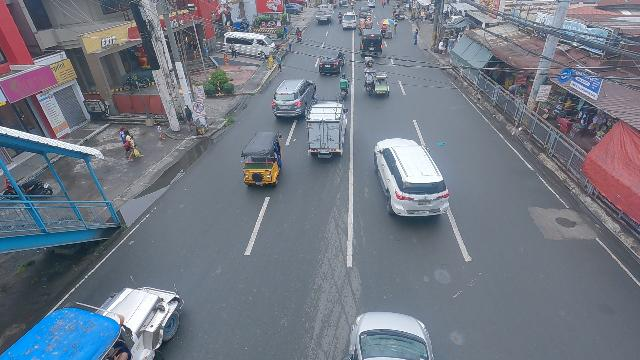car: (372, 138, 449, 222), (270, 78, 313, 118), (317, 50, 343, 76), (285, 2, 304, 14), (358, 7, 372, 19)
jeepney: (0, 279, 185, 360)
motorcycle: (339, 73, 350, 98), (296, 27, 303, 42), (338, 11, 343, 23)
truck: (306, 100, 348, 158), (314, 4, 332, 24)
van: (224, 32, 276, 61), (359, 28, 383, 55), (341, 11, 358, 30)
